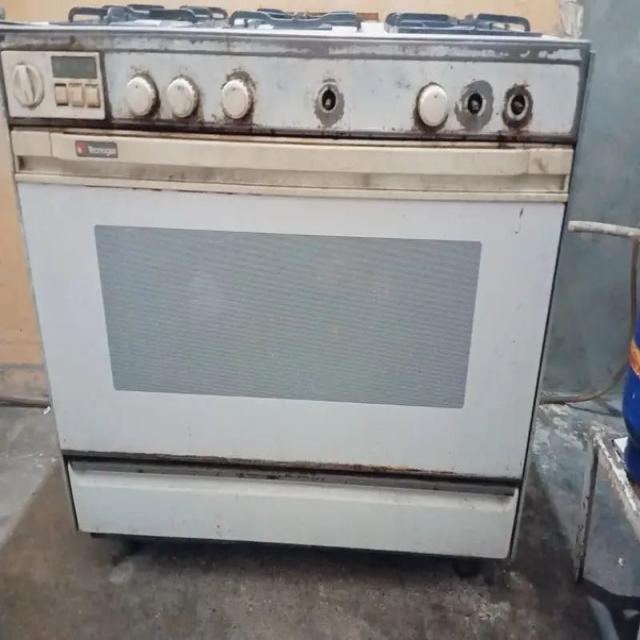electronic: (1, 6, 592, 564)
